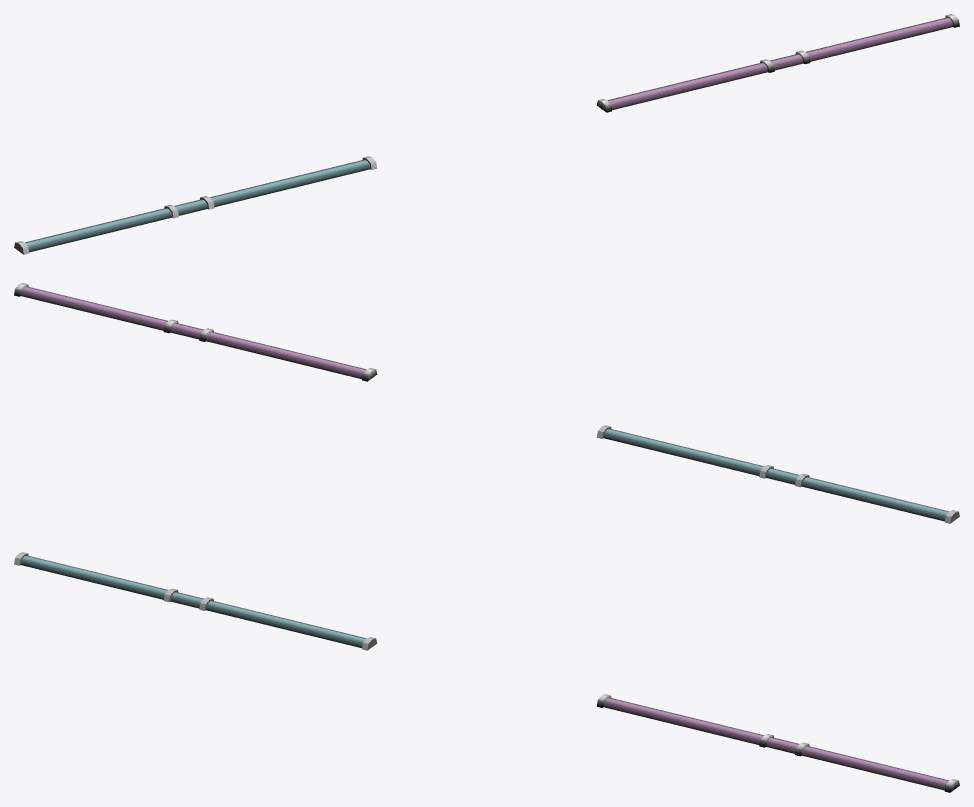
File: MarioFacelessShipPipe.fbx
3 renders of one model, top to bottom at view 1: azimuth 30°, elevation 25°; view 2: azimuth 150°, elevation 25°; view 3: azimuth 330°, elevation 25°, orthographic.
Visible parts, largest first — view 1: HubworldStarPlate; view 2: HubworldStarPlate; view 3: HubworldStarPlate.
Part boxes in pixels (x1=…): HubworldStarPlate: x1=14, y1=14, x2=959, y2=254; HubworldStarPlate: x1=14, y1=283, x2=959, y2=523; HubworldStarPlate: x1=14, y1=552, x2=959, y2=792.
Size of the model in its own units: 351863 by 2758 by 6434.
